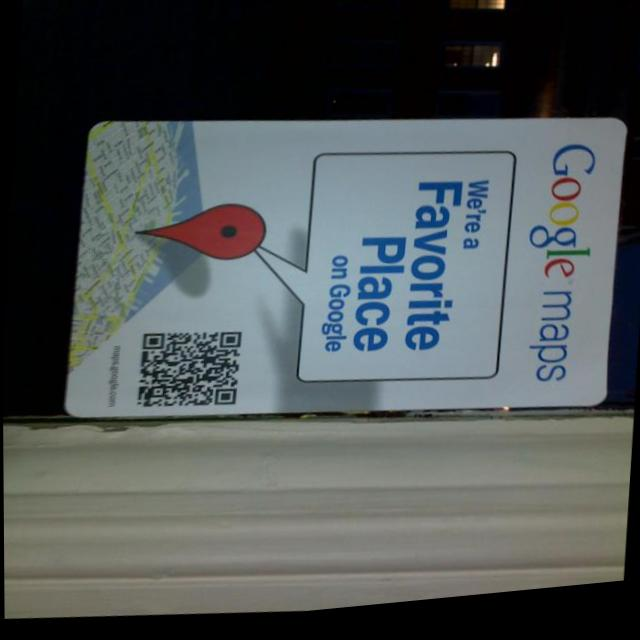qrcode: (137, 330, 241, 417)
